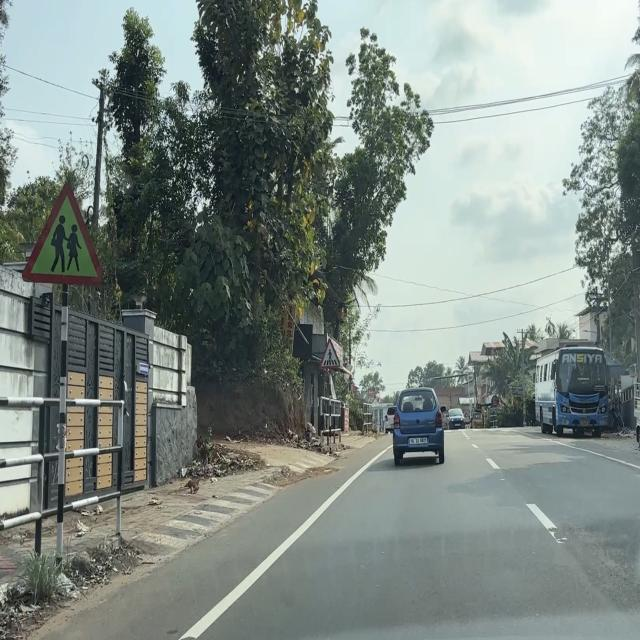PEDESTRIAN_CROSSING: (318, 337, 342, 370)
SCHOOL_AHEAD: (20, 179, 105, 290)
